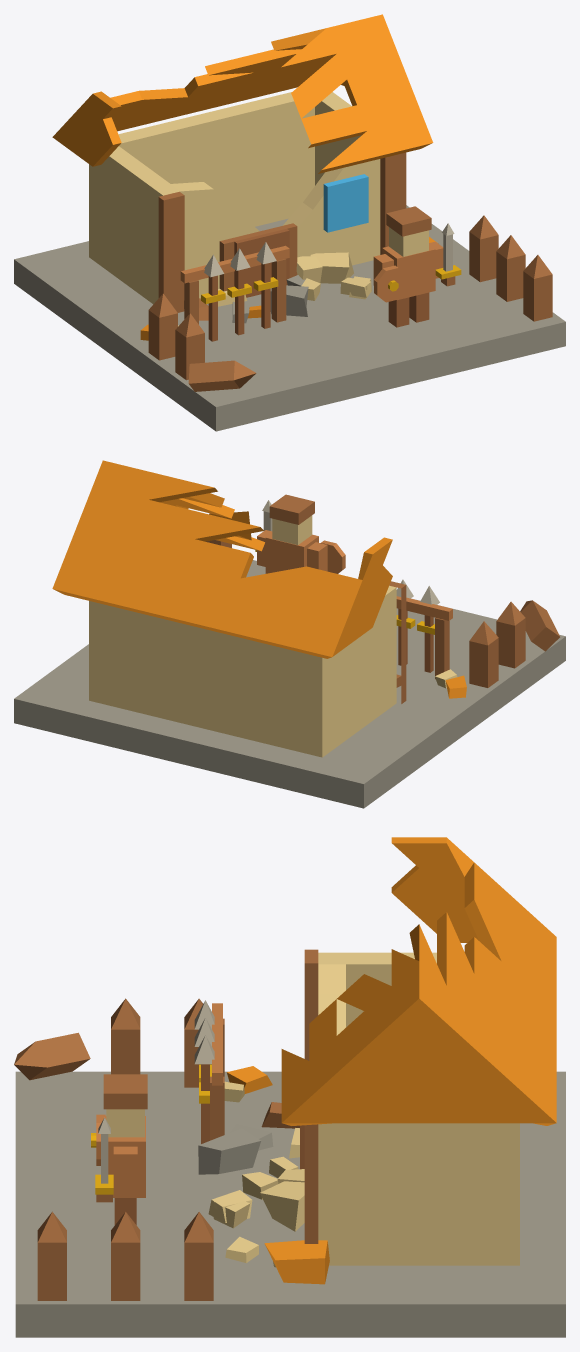
The model's file is barracks_t1_v1_dmg1.glb.
3 renders of one model, top to bottom at view 1: azimuth 30°, elevation 25°; view 2: azimuth 150°, elevation 25°; view 3: azimuth 270°, elevation 25°, orthographic. The views are drawn at different scales.
Parts seen in each view (by area): view 1: barracks_t1_v1_dmg1; view 2: barracks_t1_v1_dmg1; view 3: barracks_t1_v1_dmg1.
Boxes of the visible parts, <box> form: barracks_t1_v1_dmg1: <box>14,14,565,431</box>; barracks_t1_v1_dmg1: <box>14,460,565,808</box>; barracks_t1_v1_dmg1: <box>14,837,565,1337</box>.
Size of the model in its own units: 0.6187 by 0.38 by 0.6018.
1 material, 1 textured.
